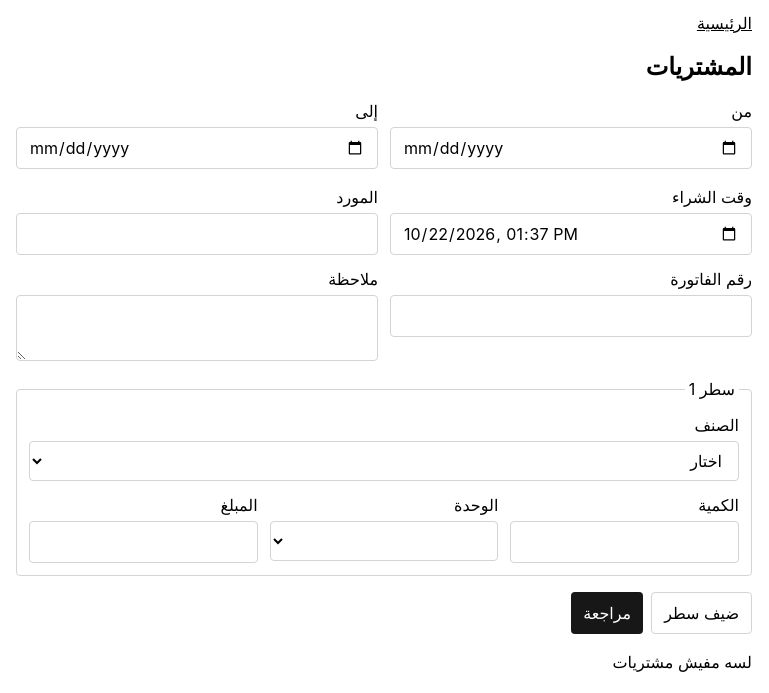
PurchasesPage › rejects an inverted date range without another read
Expected: the field labelled "وقت الشراء" is shown, [390,213,752,255]
Type "2026-02-02" into the date field labelled "من" at point(571, 148), box [390,127,752,169]
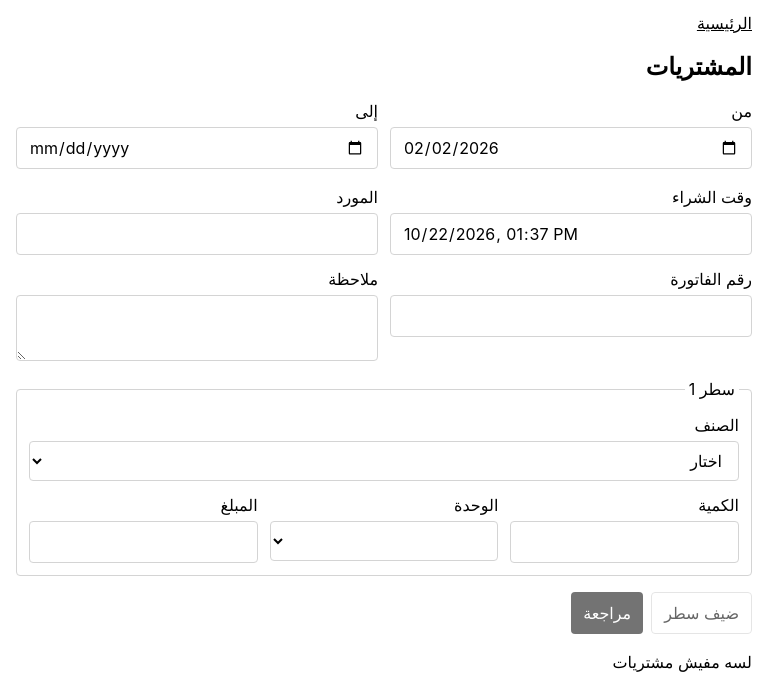
Type "2026-01-01" into the date field labelled "إلى" at point(197, 148), box [16,127,378,169]
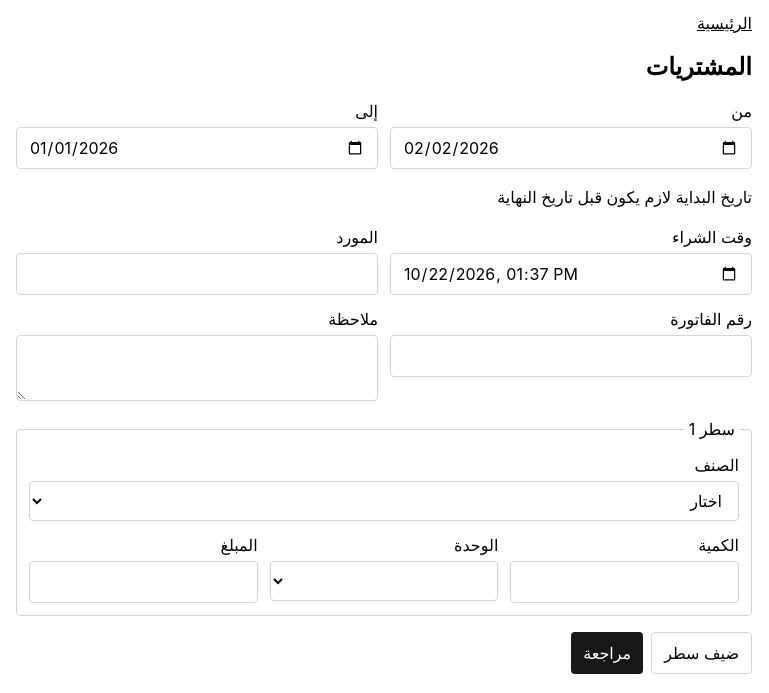
Now the message reads "تاريخ البداية لازم يكون قبل تاريخ النهاية", box [497,187,752,207]
